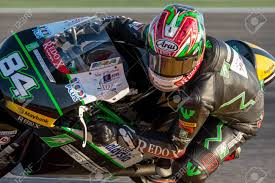helmet: (143, 2, 205, 89)
